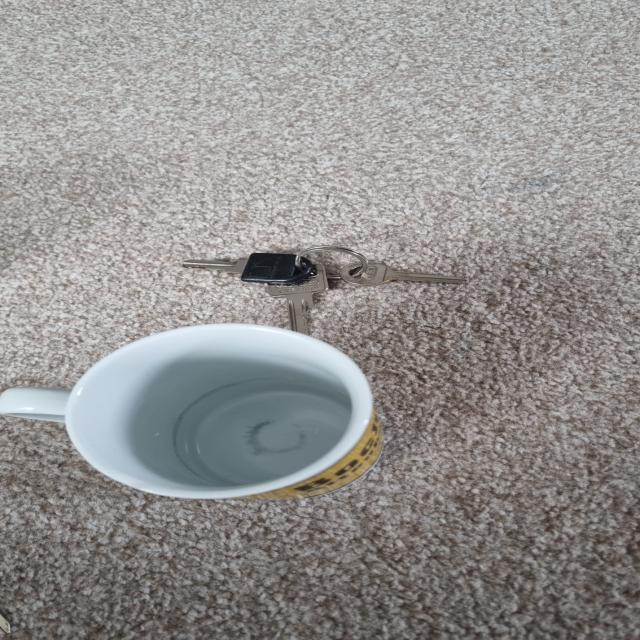Cup: (0, 325, 381, 503)
Key: (264, 262, 332, 335), (181, 250, 316, 284), (339, 259, 469, 287)
